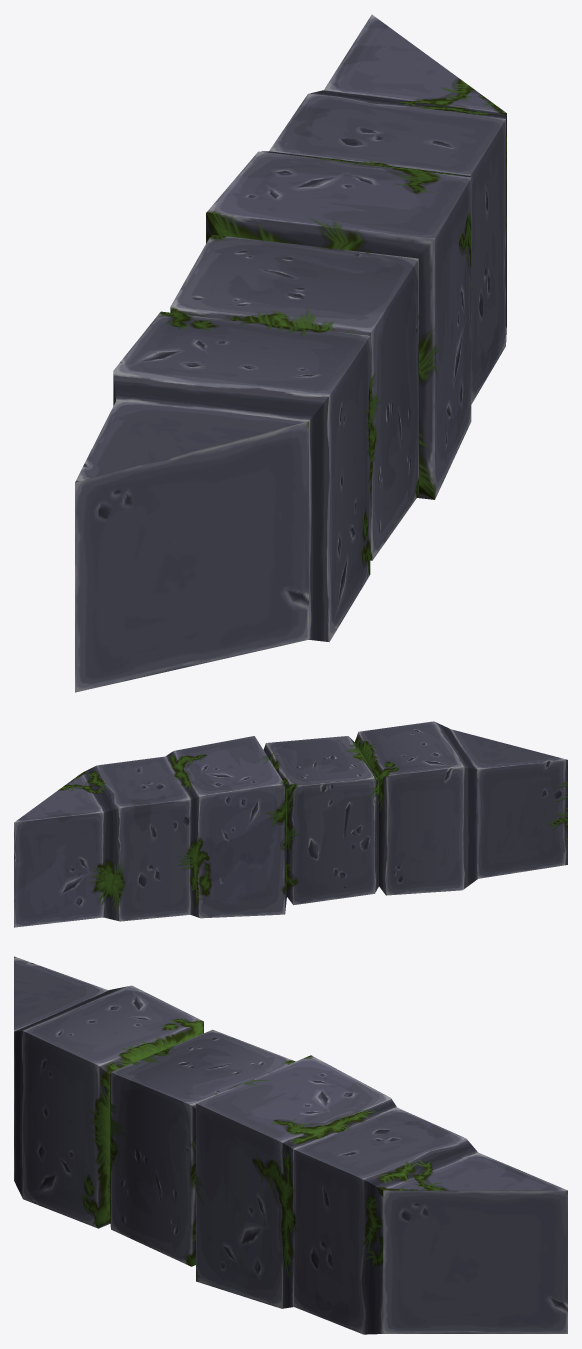
The model's file is MOD_WallCover_01_E_angle_1_2.fbx.
3 views of the same model, one above another, from view 1: azimuth 30°, elevation 25°; view 2: azimuth 150°, elevation 25°; view 3: azimuth 270°, elevation 25° (orthographic). The views are drawn at different scales.
Visible parts, largest first — view 1: MOD_WallCover_01_E_angle_1_2; view 2: MOD_WallCover_01_E_angle_1_2; view 3: MOD_WallCover_01_E_angle_1_2.
Boxes of the visible parts, box(x1,y1,x2,y2) form: MOD_WallCover_01_E_angle_1_2: box(75, 14, 506, 692); MOD_WallCover_01_E_angle_1_2: box(14, 721, 567, 927); MOD_WallCover_01_E_angle_1_2: box(14, 956, 567, 1334).
Bounding box in the file's own units: 210 × 74.46 × 210.
